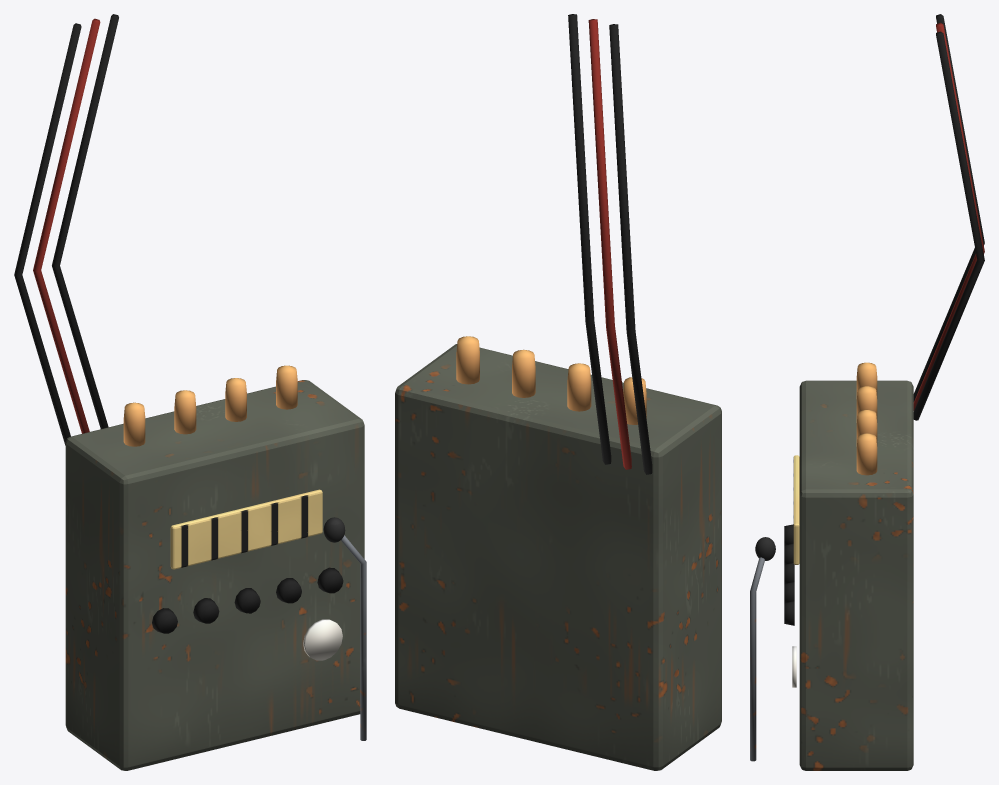
File: radio.glb
The picture shows the model from 3 angles, left to right: view 1: azimuth 30°, elevation 25°; view 2: azimuth 150°, elevation 25°; view 3: azimuth 270°, elevation 25°; orthographic projection. The views are drawn at different scales.
Parts seen in each view (by area): view 1: Radio; view 2: Radio; view 3: Radio.
Boxes of the visible parts, box(x1,y1,x2,y2) form: Radio: box(14, 14, 366, 770); Radio: box(395, 14, 721, 770); Radio: box(750, 14, 984, 770).
Bounding box in the file's own units: 1.37 × 3.5 × 1.13.
1 material, 1 textured.
